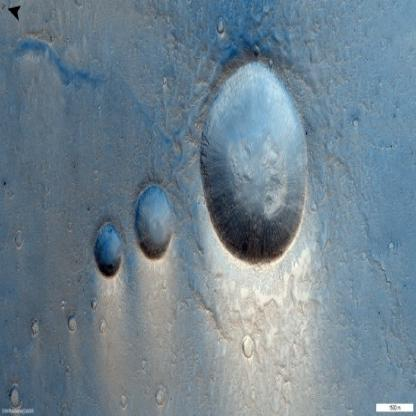craters: (195, 59, 315, 271), (131, 181, 176, 266), (92, 214, 123, 289), (235, 330, 262, 368), (26, 314, 49, 342), (11, 228, 31, 256), (212, 14, 230, 41), (61, 312, 82, 335), (5, 384, 24, 408), (97, 310, 110, 344), (150, 387, 173, 405), (86, 289, 99, 311), (118, 387, 130, 410), (6, 184, 18, 205), (161, 69, 168, 92), (92, 170, 101, 180)
